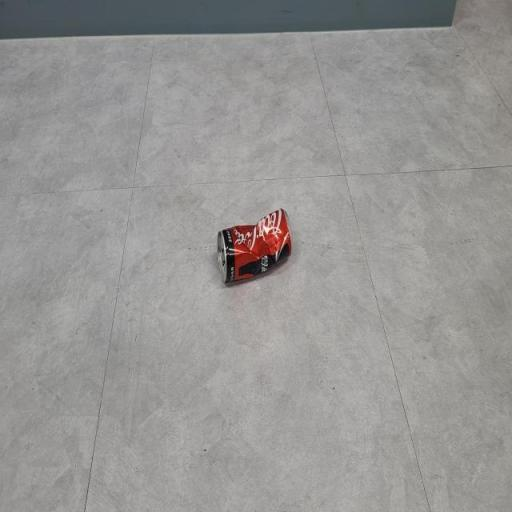metal: (198, 207, 308, 307)
